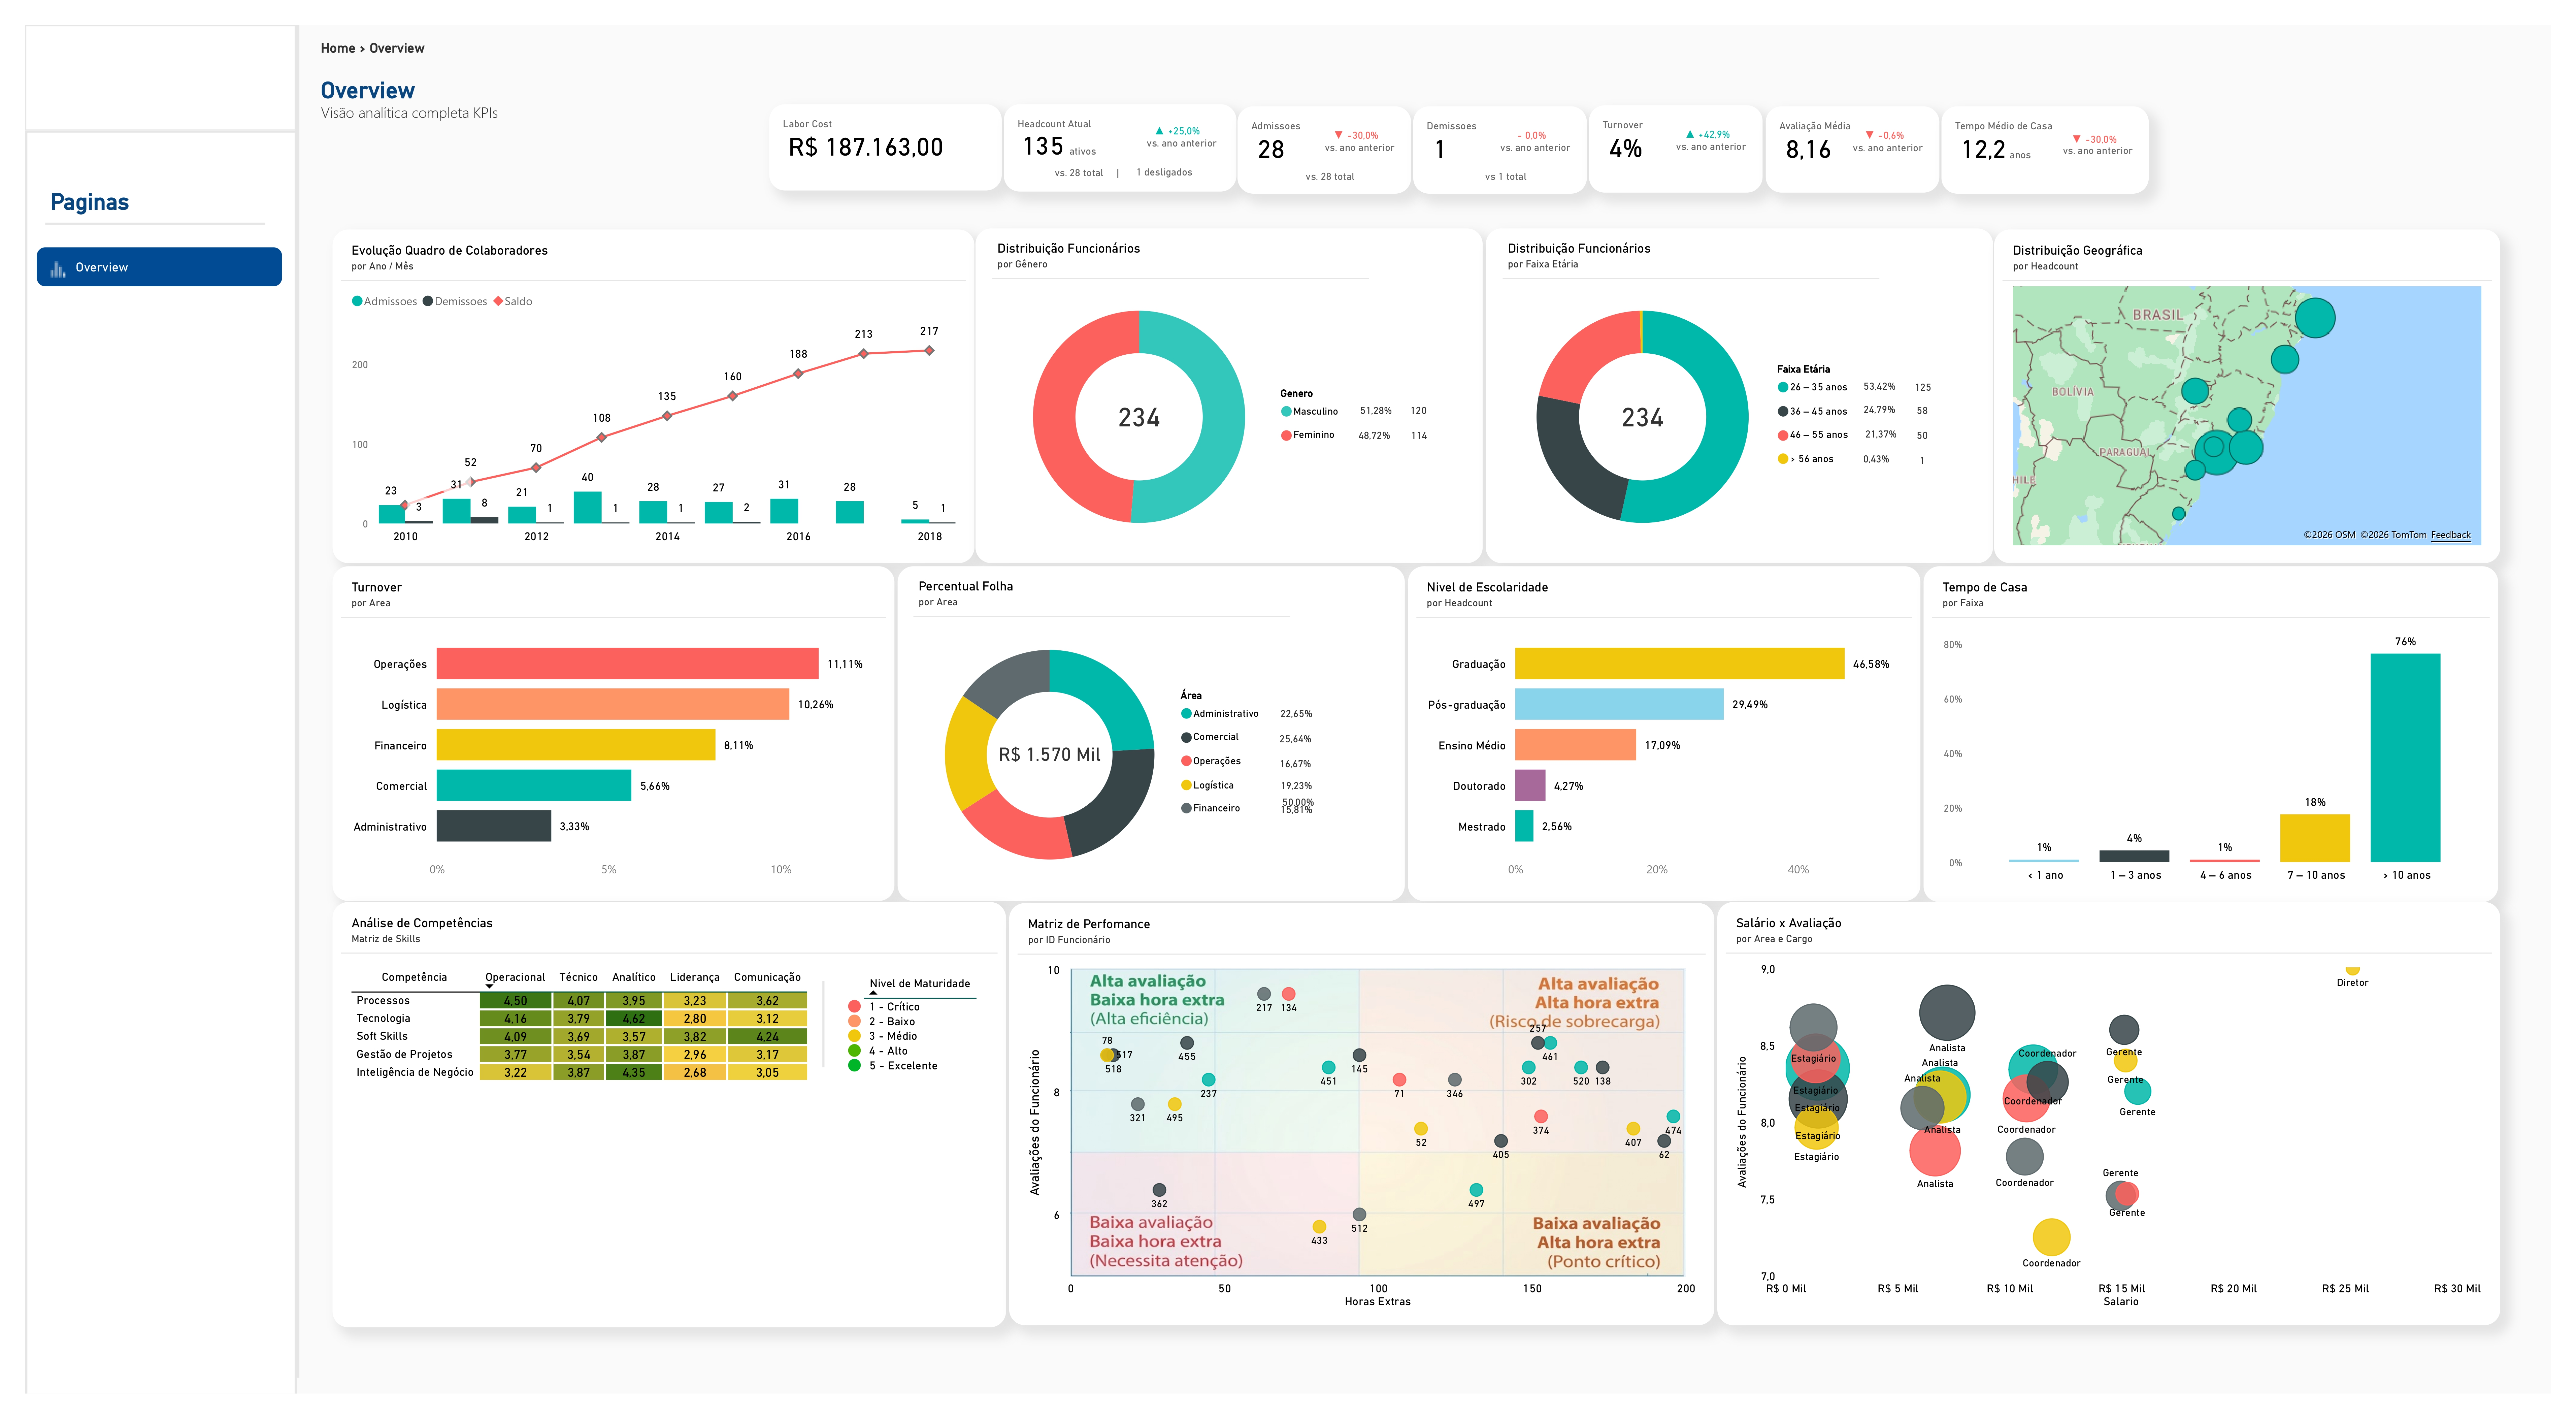

The dashboard page shown, as its layout file describes it:
{"tool":"powerbi","page":{"name":"Dashboard RH","canvas":[2400,1300],"ordinal":0},"visuals":[{"type":"group","id":"g1","title":"Grupo 4","box":[706.6,75.4,1312.1,84.8],"z":0},{"type":"shape","title":"Headcount Atual","box":[929.3,75.4,221.2,82.9],"z":0,"group":"g5"},{"type":"shape","title":"Labor Cost","box":[706.6,75.6,221.2,82.5],"z":0,"group":"g2"},{"type":"shape","title":"Turnover","box":[1485.9,76.8,165.1,82.6],"z":0,"group":"g9"},{"type":"shape","title":"Avaliação Média","box":[1653.2,76.9,165.1,82.1],"z":0,"group":"g10"},{"type":"shape","title":"Admissoes","box":[1151.4,77.2,165.1,82.6],"z":0,"group":"g6"},{"type":"shape","title":"Demissoes","box":[1318.9,77.2,165.1,82.8],"z":0,"group":"g8"},{"type":"shape","title":"Tempo Médio de Casa","box":[1820.4,77.4,197.1,82.7],"z":0,"group":"g12"},{"type":"shape","box":[1387.6,192.9,482.4,317.6],"z":0,"group":"g4"},{"type":"shape","box":[903.5,193.3,482.4,317.6],"z":0,"group":"g3"},{"type":"shape","box":[829.2,513.9,482.1,317.9],"z":0,"group":"g7"},{"type":"pivotTable","title":"Análise de Competências","fields":{"Rows":["Matriz de Competências.Competência"],"Values":["Avg(Matriz de Competências.Operacional)","Avg(Matriz de Competências.Técnico)","Avg(Matriz de Competências.Analítico)","Avg(Matriz de Competências.Liderança)","Avg(Matriz de Competências.Comunicação)"]},"box":[291.7,833.1,640.3,404.5],"z":0,"group":"g11"},{"type":"group","id":"g2","title":"Grupo 2","box":[706.6,75.6,221.2,82.5],"z":1000,"group":"g1"},{"type":"shape","box":[0,100,257.6,1400],"z":1000},{"type":"lineClusteredColumnComboChart","title":"Evolução Quadro de Colaboradores","fields":{"Category":["BaseFuncionarios.Ano da Contratação"],"Y":["BaseFuncionarios.Total Contratacoes","BaseFuncionarios.Demissoes"],"Y2":["BaseFuncionarios.Funcionarios Ativos"]},"box":[291.9,194,610,317.1],"z":1000},{"type":"donutChart","title":"Distribuição Funcionários","fields":{"Category":["BaseFuncionarios.Faixa Etária"],"Y":["BaseFuncionarios.Total Contratacoes"]},"box":[1403.6,205.2,358,296.3],"z":1000,"group":"g4"},{"type":"donutChart","title":"Distribuição Funcionários","fields":{"Category":["BaseFuncionarios.Genero"],"Y":["BaseFuncionarios.Total Contratacoes"]},"box":[919.5,205.6,358,296.3],"z":1000,"group":"g3"},{"type":"donutChart","title":"Percentual Folha","fields":{"Category":["BaseFuncionarios.Área"],"Y":["Sum(BaseFuncionarios.Salario)"]},"box":[843.8,526.2,358,296.3],"z":1000,"group":"g7"},{"type":"textbox","box":[18.8,150,110.4,37.5],"z":1750},{"type":"multiRowCard","title":"Headcount Atual","fields":{"Values":["BaseFuncionarios.Headcount"]},"box":[940.9,96.5,65.1,41.4],"z":2000,"group":"g5"},{"type":"multiRowCard","title":"Headcount Atual","fields":{"Values":["Sum(BaseFuncionarios.Salario)"]},"box":[719.9,97.5,192.9,40.7],"z":2000,"group":"g2"},{"type":"multiRowCard","title":"Admissoes","fields":{"Values":["BaseFuncionarios.% Turnover"]},"box":[1499.6,98.8,77.3,45.3],"z":2000,"group":"g9"},{"type":"multiRowCard","title":"Admissoes","fields":{"Values":["BaseFuncionarios.Média avaliação funcionário"]},"box":[1666.9,98.8,77.3,45],"z":2000,"group":"g10"},{"type":"multiRowCard","title":"Admissoes","fields":{"Values":["BaseFuncionarios.Tempo Médio de Casa (Anos)"]},"box":[1833.2,98.9,73.7,45.8],"z":2000,"group":"g12"},{"type":"multiRowCard","title":"Admissoes","fields":{"Values":["BaseFuncionarios.Total Contratacoes"]},"box":[1165.1,99.6,67.8,45.4],"z":2000,"group":"g6"},{"type":"multiRowCard","title":"Admissoes","fields":{"Values":["BaseFuncionarios.Demissoes"]},"box":[1332.6,99.7,67.8,45.5],"z":2000,"group":"g8"},{"type":"shape","box":[18.8,179.7,208.7,17.4],"z":2000},{"type":"group","id":"g3","title":"Grupo 1","box":[903.5,193.3,482.4,317.6],"z":2000},{"type":"card","fields":{"Values":["BaseFuncionarios.Total Contratacoes"]},"box":[1772.3,352.6,59.7,30.6],"z":2000,"group":"g4"},{"type":"card","fields":{"Values":["BaseFuncionarios.Total Contratacoes"]},"box":[1294.9,353.3,59.3,30],"z":2000,"group":"g3"},{"type":"tableEx","title":"Análise Volume","fields":{"Values":["Nivel de Maturidade.Nivel de Maturidade"]},"box":[791.2,888.1,137.6,125.9],"z":2000,"group":"g11"},{"type":"card","fields":{"Values":["BaseFuncionarios.Total Contratacoes"]},"box":[1874.2,110.1,42.3,24.5],"z":2500,"group":"g12"},{"type":"card","fields":{"Values":["BaseFuncionarios.% TempoCasa vs Ano Anterior (Formatado)"]},"box":[1929.4,96,71.5,25.1],"z":3000,"group":"g12"},{"type":"card","fields":{"Values":["BaseFuncionarios.Total Contratacoes"]},"box":[1718.4,101.5,101.6,21.8],"z":3000,"group":"g10"},{"type":"card","fields":{"Values":["BaseFuncionarios.Total Contratacoes"]},"box":[1551.1,101.6,101.6,21.9],"z":3000,"group":"g9"},{"type":"card","fields":{"Values":["BaseFuncionarios.Total Contratacoes"]},"box":[1216.6,102,101.6,21.9],"z":3000,"group":"g6"},{"type":"card","fields":{"Values":["BaseFuncionarios.Total Contratacoes"]},"box":[1384.1,102,101.6,22],"z":3000,"group":"g8"},{"type":"card","fields":{"Values":["BaseFuncionarios.Total Contratacoes"]},"box":[982,107.7,43.8,24.3],"z":3000,"group":"g5"},{"type":"card","fields":{"Values":["BaseFuncionarios.% FaixaEtaria"]},"box":[1732,351.2,59.7,31.9],"z":3000,"group":"g4"},{"type":"card","fields":{"Values":["BaseFuncionarios.% Genero"]},"box":[1254.1,353.2,59,30.3],"z":3000,"group":"g3"},{"type":"card","fields":{"Values":["BaseFuncionarios.% Area"]},"box":[1178.5,664.6,58.2,29.9],"z":3000,"group":"g7"},{"type":"shape","box":[781.2,926.1,12.1,12.2],"z":3000,"group":"g11"},{"type":"card","fields":{"Values":["BaseFuncionarios.Total Contratacoes"]},"box":[1920.5,105.6,96.8,22.2],"z":3500,"group":"g12"},{"type":"card","fields":{"Values":["BaseFuncionarios.% Turnover vs Ano Anterior (Formatado)"]},"box":[1560.5,92.1,75,24.8],"z":4000,"group":"g9"},{"type":"card","fields":{"Values":["BaseFuncionarios.% Avaliacao Media vs Ano Anterior (Formatado)"]},"box":[1727.8,92.1,75,24.7],"z":4000,"group":"g10"},{"type":"card","fields":{"Values":["BaseFuncionarios.% Admissões vs Ano Anterior (Formatado)"]},"box":[1226,92.5,75,24.8],"z":4000,"group":"g6"},{"type":"card","fields":{"Values":["BaseFuncionarios.% Desligamentos vs Ano Anterior (Formatado)"]},"box":[1393.5,92.5,75,24.9],"z":4000,"group":"g8"},{"type":"card","fields":{"Values":["BaseFuncionarios.Total Contratacoes"]},"box":[1047.3,98.1,101.6,22.5],"z":4000,"group":"g5"},{"type":"group","id":"g4","title":"Grupo 1","box":[1387.6,192.9,482.4,317.6],"z":4000},{"type":"actionButton","box":[11.1,211.1,233.3,37],"z":4000},{"type":"card","fields":{"Values":["BaseFuncionarios.% FaixaEtaria"]},"box":[1733.9,375.4,58.3,30.6],"z":4000,"group":"g4"},{"type":"card","fields":{"Values":["BaseFuncionarios.% Genero"]},"box":[1253.5,376.6,58.3,30.6],"z":4000,"group":"g3"},{"type":"card","fields":{"Values":["BaseFuncionarios.% Area"]},"box":[1178.5,688.5,58.2,29.9],"z":4000,"group":"g7"},{"type":"shape","box":[781.2,939.8,12.1,12.2],"z":4000,"group":"g11"},{"type":"card","fields":{"Values":["BaseFuncionarios.Total Contratacoes"]},"box":[1187,131,104.1,28.8],"z":4500,"group":"g6"},{"type":"card","fields":{"Values":["BaseFuncionarios.Demissoes"]},"box":[1354.5,131.1,104.1,28.9],"z":4500,"group":"g8"},{"type":"group","id":"g5","title":"Grupo 2","box":[929.3,75.4,221.2,82.9],"z":5000,"group":"g1"},{"type":"card","fields":{"Values":["BaseFuncionarios.% Contratações vs Ano Anterior (Formatado)"]},"box":[1056.7,88.4,75,25.5],"z":5000,"group":"g5"},{"type":"azureMap","title":"Distribuição Geográfica","fields":{"Category":["BaseFuncionarios.Endereço"],"Size":["BaseFuncionarios.Total Contratacoes"]},"box":[1871.4,193.7,481,317.5],"z":5000},{"type":"card","fields":{"Values":["BaseFuncionarios.Total Contratacoes"]},"box":[1773.1,376,58.8,30.9],"z":5000,"group":"g4"},{"type":"card","fields":{"Values":["BaseFuncionarios.Total Contratacoes"]},"box":[1295.2,376.6,59.7,30.6],"z":5000,"group":"g3"},{"type":"shape","box":[781.2,953.6,12.1,12.2],"z":5000,"group":"g11"},{"type":"card","fields":{"Values":["BaseFuncionarios.% Area"]},"box":[1178.5,731.8,59.7,29.9],"z":5500,"group":"g7"},{"type":"group","id":"g6","title":"Grupo 2","box":[1151.4,77.2,166.8,82.6],"z":6000,"group":"g1"},{"type":"card","fields":{"Values":["BaseFuncionarios.Total Contratacoes"]},"box":[957,127.7,104.1,29.9],"z":6000,"group":"g5"},{"type":"card","fields":{"Values":["BaseFuncionarios.Total Contratacoes"]},"box":[1773.2,331,59.8,29.9],"z":6000,"group":"g4"},{"type":"clusteredBarChart","title":"Turnover","fields":{"Category":["BaseFuncionarios.Área"],"Y":["BaseFuncionarios.% Turnover"]},"box":[291.9,513.9,534.3,317.9],"z":6000},{"type":"card","fields":{"Values":["BaseFuncionarios.% Genero"]},"box":[1179.8,724.6,59,30.3],"z":6000,"group":"g7"},{"type":"shape","box":[781.2,967.9,12.1,12.2],"z":6000,"group":"g11"},{"type":"card","fields":{"Values":["BaseFuncionarios.% Area"]},"box":[1178.5,709.4,59.7,29.9],"z":6500,"group":"g7"},{"type":"card","fields":{"Values":["BaseFuncionarios.Demissoes"]},"box":[1046.4,127.4,71.1,28.7],"z":7000,"group":"g5"},{"type":"card","fields":{"Values":["BaseFuncionarios.% FaixaEtaria"]},"box":[1732,329,59.7,31.9],"z":7000,"group":"g4"},{"type":"group","id":"g7","title":"Grupo 1","box":[829.2,513.9,482.1,317.9],"z":7000},{"type":"card","fields":{"Values":["BaseFuncionarios.% Area"]},"box":[1178.5,640.8,59.7,29.9],"z":7000,"group":"g7"},{"type":"shape","box":[781.7,981.8,12.4,12.3],"z":7000,"group":"g11"},{"type":"group","id":"g8","title":"Grupo 2","box":[1318.9,77.2,167.1,82.6],"z":8000,"group":"g1"},{"type":"card","fields":{"Values":["BaseFuncionarios.% FaixaEtaria"]},"box":[1729.3,398.5,58.3,30.6],"z":8000,"group":"g4"},{"type":"clusteredBarChart","title":"Nivel de Escolaridade","fields":{"Category":["BaseFuncionarios.Escolaridade"],"Y":["BaseFuncionarios.% Escolaridade"]},"box":[1314.3,513.9,486.6,317.9],"z":8000},{"type":"shape","box":[753.6,908,8.8,81.9],"z":8000,"group":"g11"},{"type":"group","id":"g9","title":"Grupo 2","box":[1485.9,76.8,166.8,82.6],"z":9000,"group":"g1"},{"type":"card","fields":{"Values":["BaseFuncionarios.Total Contratacoes"]},"box":[1773.1,400.1,58.8,30.9],"z":9000,"group":"g4"},{"type":"clusteredColumnChart","title":"Tempo de Casa","fields":{"Category":["BaseFuncionarios.Faixa Tempo de Casa"],"Y":["BaseFuncionarios.% Tempo de Casa"]},"box":[1803.9,513.9,546.3,319.4],"z":9000},{"type":"group","id":"g10","title":"Grupo 2","box":[1653.2,76.9,166.4,82.6],"z":10000,"group":"g1"},{"type":"group","id":"g11","title":"Grupo 3","box":[291.7,833.1,640.3,404.5],"z":10000},{"type":"group","id":"g12","title":"Grupo 2","box":[1820.4,77.4,197,82.6],"z":11000,"group":"g1"},{"type":"scatterChart","title":"Matriz de Perfomance","fields":{"Category":["BaseFuncionarios.ID RH"],"Series":["BaseFuncionarios.Área"],"X":["Sum(BaseFuncionarios.Horas Extras)"],"Y":["Avg(BaseFuncionarios.Avaliação do Funcionário)"]},"box":[934.6,833.5,670.6,402],"z":11000},{"type":"scatterChart","title":"Salário x Avaliação","fields":{"Category":["BaseFuncionarios.Cargo"],"Series":["BaseFuncionarios.Área"],"Size":["BaseFuncionarios.Total Contratacoes"],"X":["Avg(BaseFuncionarios.Salario)"],"Y":["Avg(BaseFuncionarios.Avaliação do Funcionário)"]},"box":[1607.9,833.3,744.4,401.6],"z":12000},{"type":"shape","box":[0,0,257.1,100],"z":12001},{"type":"textbox","box":[275.7,5.7,601.4,110],"z":12002},{"type":"shape","box":[252,0,12.6,1285.1],"z":12003}]}

Visuals, with their boxes on the page's 2400x1300 design canvas (x1, y1, x2, y2). These are canvas units, not pixel positions in the 2576x1419 screenshot, which may show the page scaled, cropped or inside an application window:
"Grupo 4" group: (707, 75, 2019, 160)
"Headcount Atual" shape: (929, 75, 1150, 158)
"Labor Cost" shape: (707, 76, 928, 158)
"Turnover" shape: (1486, 77, 1651, 159)
"Avaliação Média" shape: (1653, 77, 1818, 159)
"Admissoes" shape: (1151, 77, 1316, 160)
"Demissoes" shape: (1319, 77, 1484, 160)
"Tempo Médio de Casa" shape: (1820, 77, 2018, 160)
shape: (1388, 193, 1870, 510)
shape: (904, 193, 1386, 511)
shape: (829, 514, 1311, 832)
"Análise de Competências" pivotTable: (292, 833, 932, 1238)
"Grupo 2" group: (707, 76, 928, 158)
shape: (0, 100, 258, 1500)
"Evolução Quadro de Colaboradores" lineClusteredColumnComboChart: (292, 194, 902, 511)
"Distribuição Funcionários" donutChart: (1404, 205, 1762, 502)
"Distribuição Funcionários" donutChart: (920, 206, 1278, 502)
"Percentual Folha" donutChart: (844, 526, 1202, 822)
textbox: (19, 150, 129, 188)
"Headcount Atual" multiRowCard: (941, 96, 1006, 138)
"Headcount Atual" multiRowCard: (720, 98, 913, 138)
"Admissoes" multiRowCard: (1500, 99, 1577, 144)
"Admissoes" multiRowCard: (1667, 99, 1744, 144)
"Admissoes" multiRowCard: (1833, 99, 1907, 145)
"Admissoes" multiRowCard: (1165, 100, 1233, 145)
"Admissoes" multiRowCard: (1333, 100, 1400, 145)
shape: (19, 180, 228, 197)
"Grupo 1" group: (904, 193, 1386, 511)
card - BaseFuncionarios.Total Contratacoes: (1772, 353, 1832, 383)
card - BaseFuncionarios.Total Contratacoes: (1295, 353, 1354, 383)
"Análise Volume" tableEx: (791, 888, 929, 1014)
card - BaseFuncionarios.Total Contratacoes: (1874, 110, 1916, 135)
card - BaseFuncionarios.% TempoCasa vs Ano Anterior (Formatado): (1929, 96, 2001, 121)
card - BaseFuncionarios.Total Contratacoes: (1718, 102, 1820, 123)
card - BaseFuncionarios.Total Contratacoes: (1551, 102, 1653, 124)
card - BaseFuncionarios.Total Contratacoes: (1217, 102, 1318, 124)
card - BaseFuncionarios.Total Contratacoes: (1384, 102, 1486, 124)
card - BaseFuncionarios.Total Contratacoes: (982, 108, 1026, 132)
card - BaseFuncionarios.% FaixaEtaria: (1732, 351, 1792, 383)
card - BaseFuncionarios.% Genero: (1254, 353, 1313, 384)
card - BaseFuncionarios.% Area: (1178, 665, 1237, 694)
shape: (781, 926, 793, 938)
card - BaseFuncionarios.Total Contratacoes: (1920, 106, 2017, 128)
card - BaseFuncionarios.% Turnover vs Ano Anterior (Formatado): (1560, 92, 1636, 117)
card - BaseFuncionarios.% Avaliacao Media vs Ano Anterior (Formatado): (1728, 92, 1803, 117)
card - BaseFuncionarios.% Admissões vs Ano Anterior (Formatado): (1226, 92, 1301, 117)
card - BaseFuncionarios.% Desligamentos vs Ano Anterior (Formatado): (1394, 92, 1468, 117)
card - BaseFuncionarios.Total Contratacoes: (1047, 98, 1149, 121)
"Grupo 1" group: (1388, 193, 1870, 510)
actionButton: (11, 211, 244, 248)
card - BaseFuncionarios.% FaixaEtaria: (1734, 375, 1792, 406)
card - BaseFuncionarios.% Genero: (1254, 377, 1312, 407)
card - BaseFuncionarios.% Area: (1178, 688, 1237, 718)
shape: (781, 940, 793, 952)
card - BaseFuncionarios.Total Contratacoes: (1187, 131, 1291, 160)
card - BaseFuncionarios.Demissoes: (1354, 131, 1459, 160)
"Grupo 2" group: (929, 75, 1150, 158)
card - BaseFuncionarios.% Contratações vs Ano Anterior (Formatado): (1057, 88, 1132, 114)
"Distribuição Geográfica" azureMap: (1871, 194, 2352, 511)
card - BaseFuncionarios.Total Contratacoes: (1773, 376, 1832, 407)
card - BaseFuncionarios.Total Contratacoes: (1295, 377, 1355, 407)
shape: (781, 954, 793, 966)
card - BaseFuncionarios.% Area: (1178, 732, 1238, 762)
"Grupo 2" group: (1151, 77, 1318, 160)
card - BaseFuncionarios.Total Contratacoes: (957, 128, 1061, 158)
card - BaseFuncionarios.Total Contratacoes: (1773, 331, 1833, 361)
"Turnover" clusteredBarChart: (292, 514, 826, 832)
card - BaseFuncionarios.% Genero: (1180, 725, 1239, 755)
shape: (781, 968, 793, 980)
card - BaseFuncionarios.% Area: (1178, 709, 1238, 739)
card - BaseFuncionarios.Demissoes: (1046, 127, 1118, 156)
card - BaseFuncionarios.% FaixaEtaria: (1732, 329, 1792, 361)
"Grupo 1" group: (829, 514, 1311, 832)
card - BaseFuncionarios.% Area: (1178, 641, 1238, 671)
shape: (782, 982, 794, 994)
"Grupo 2" group: (1319, 77, 1486, 160)
card - BaseFuncionarios.% FaixaEtaria: (1729, 398, 1788, 429)
"Nivel de Escolaridade" clusteredBarChart: (1314, 514, 1801, 832)
shape: (754, 908, 762, 990)
"Grupo 2" group: (1486, 77, 1653, 159)
card - BaseFuncionarios.Total Contratacoes: (1773, 400, 1832, 431)
"Tempo de Casa" clusteredColumnChart: (1804, 514, 2350, 833)
"Grupo 2" group: (1653, 77, 1820, 160)
"Grupo 3" group: (292, 833, 932, 1238)
"Grupo 2" group: (1820, 77, 2017, 160)
"Matriz de Perfomance" scatterChart: (935, 834, 1605, 1236)
"Salário x Avaliação" scatterChart: (1608, 833, 2352, 1235)
shape: (0, 0, 257, 100)
textbox: (276, 6, 877, 116)
shape: (252, 0, 265, 1285)
